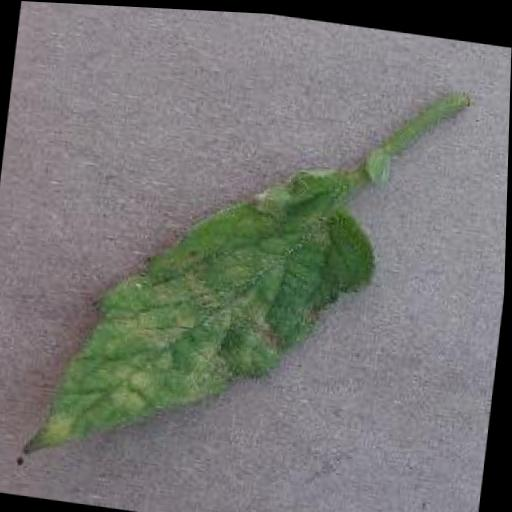Leaf Mold: (30, 134, 388, 493)
